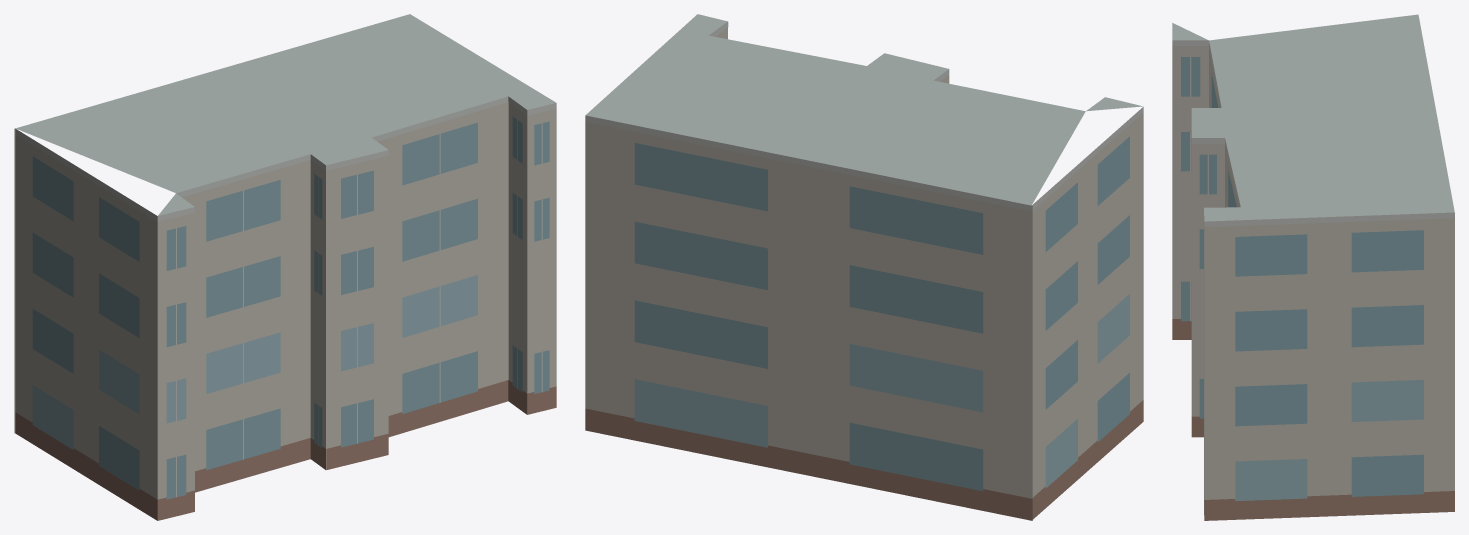
Rendered from survey-upis-32758291.glb.
3 views of the same model, side by side, from view 1: azimuth 30°, elevation 25°; view 2: azimuth 150°, elevation 25°; view 3: azimuth 270°, elevation 25° (orthographic). The views are drawn at different scales.
Visible parts, largest first — view 1: survey-upis-32758291.tmp; view 2: survey-upis-32758291.tmp; view 3: survey-upis-32758291.tmp.
Part boxes in pixels (x1,y1,x2,y2): survey-upis-32758291.tmp: (14, 14, 556, 520); survey-upis-32758291.tmp: (585, 14, 1143, 520); survey-upis-32758291.tmp: (1172, 14, 1454, 520).
Size of the model in its own units: 19.27 by 12.95 by 11.1.
